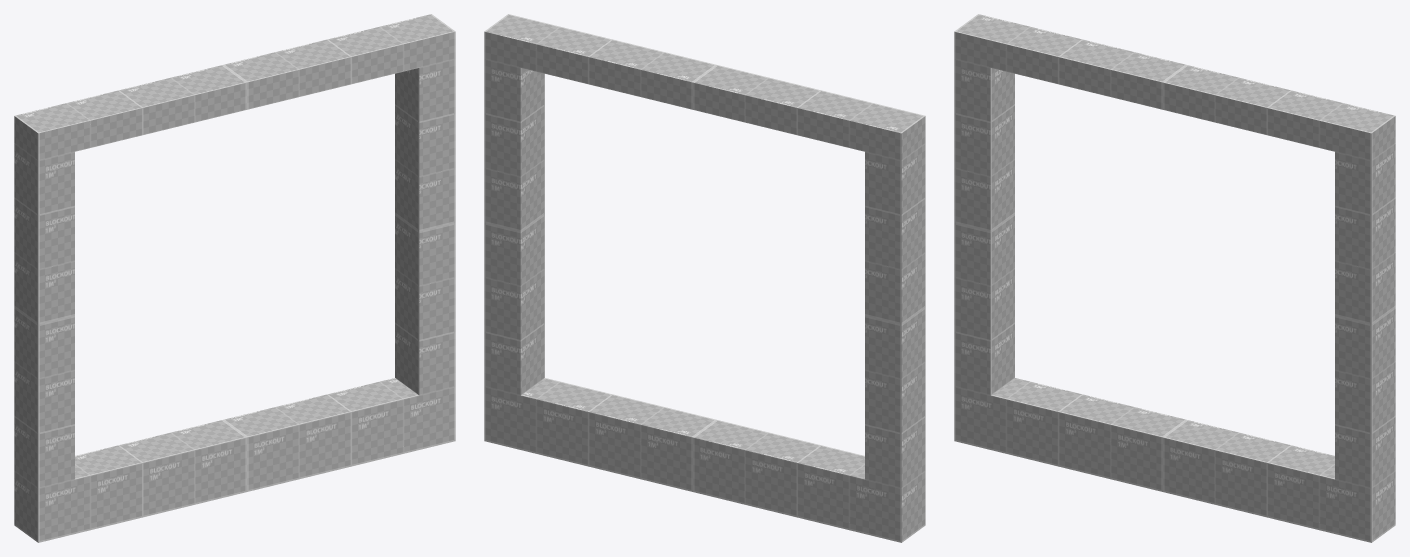
The model's file is BlockoutThickWall08WindowFull.fbx.
The picture shows the model from 3 angles, left to right: view 1: azimuth 30°, elevation 25°; view 2: azimuth 150°, elevation 25°; view 3: azimuth 330°, elevation 25°; orthographic projection.
Parts seen in each view (by area): view 1: BlockoutThickWall08WindowFull; view 2: BlockoutThickWall08WindowFull; view 3: BlockoutThickWall08WindowFull.
Boxes of the visible parts, left/top/right/bottom form: BlockoutThickWall08WindowFull: left=14, top=14, right=455, bottom=542; BlockoutThickWall08WindowFull: left=484, top=14, right=925, bottom=542; BlockoutThickWall08WindowFull: left=954, top=14, right=1395, bottom=542.
Size of the model in its own units: 800 by 750 by 80.
